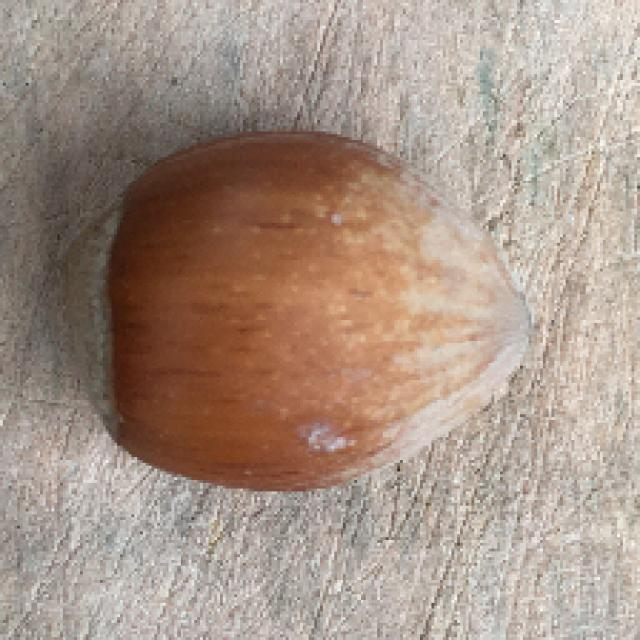qualityHazelnut: (55, 121, 535, 501)
